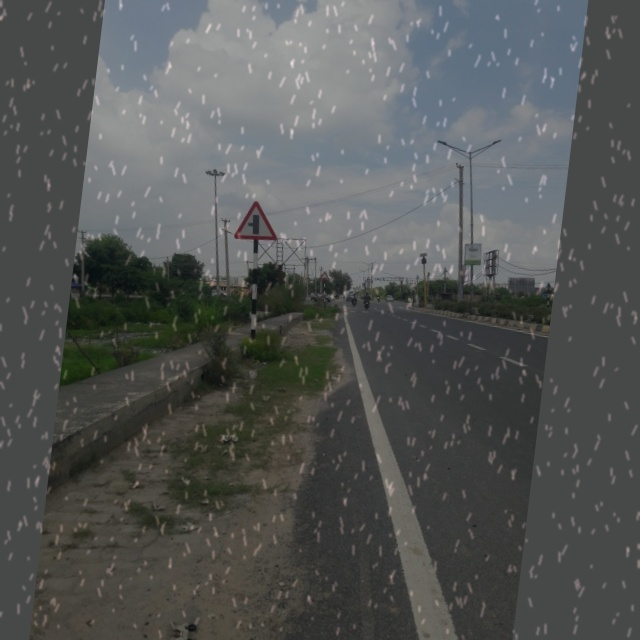Side_Road_Left: (225, 192, 283, 249)
